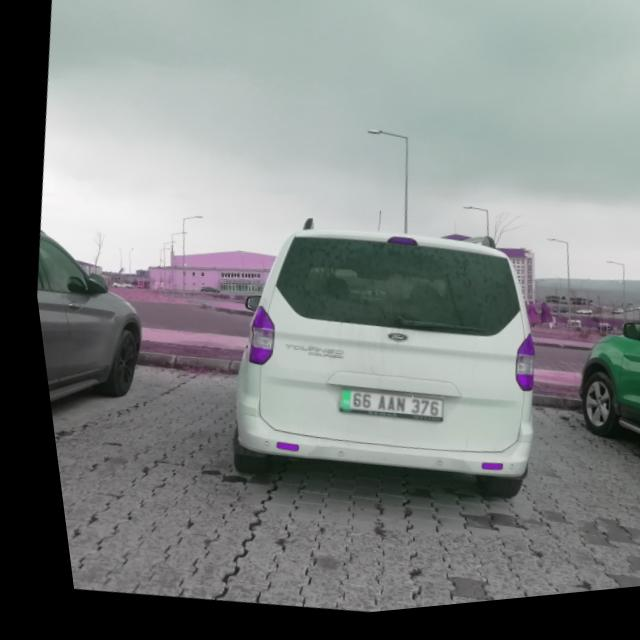license_plate: (326, 386, 434, 432)
